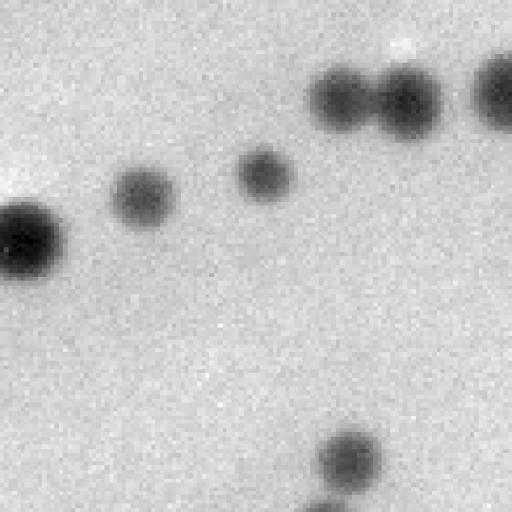Nanoparticles: (0, 194, 73, 282), (370, 59, 442, 145), (105, 162, 188, 234), (309, 426, 390, 494), (307, 64, 375, 141), (231, 142, 304, 213), (469, 47, 512, 133), (301, 491, 351, 512)
